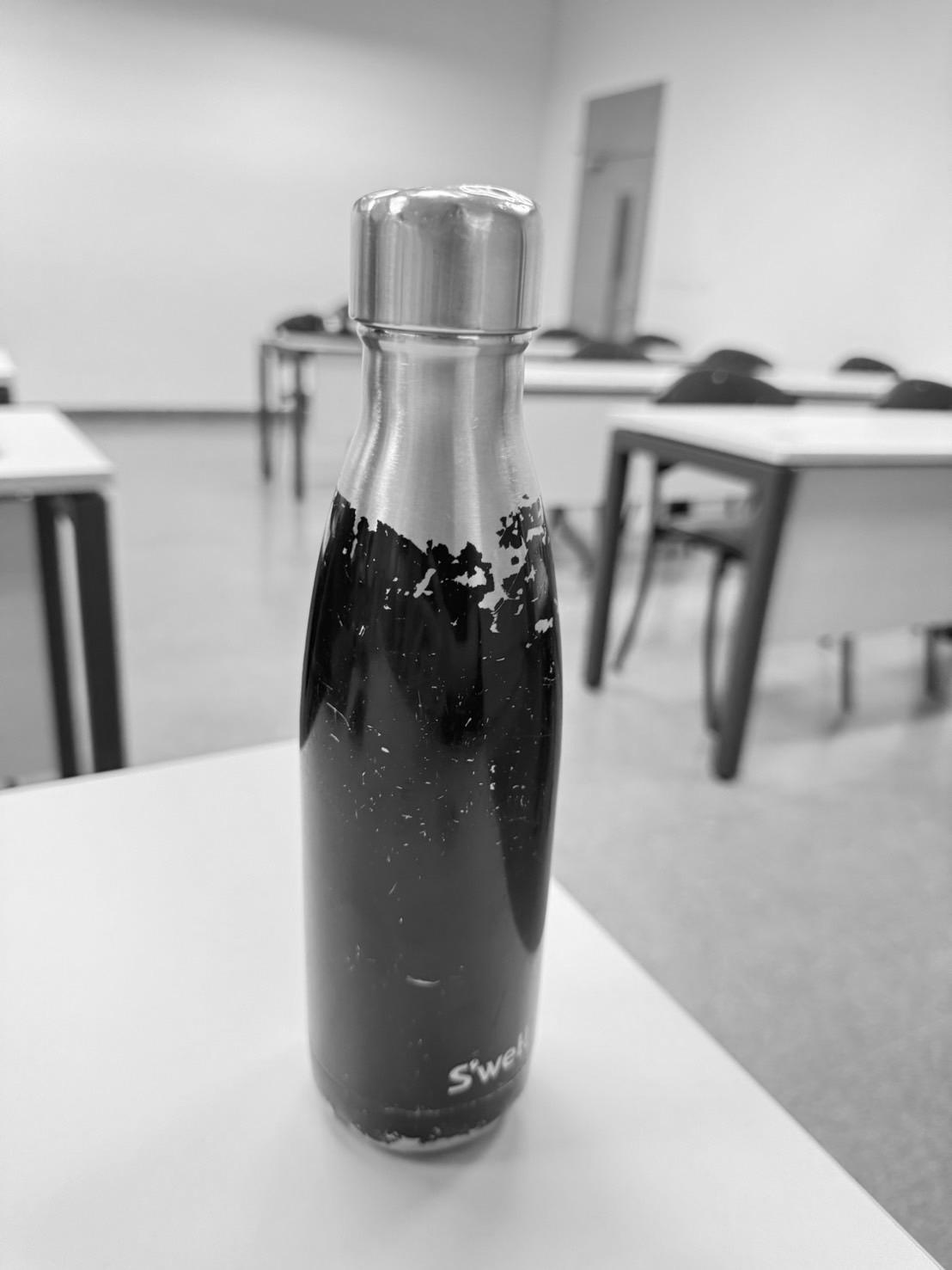bottle: (300, 186, 560, 1151)
